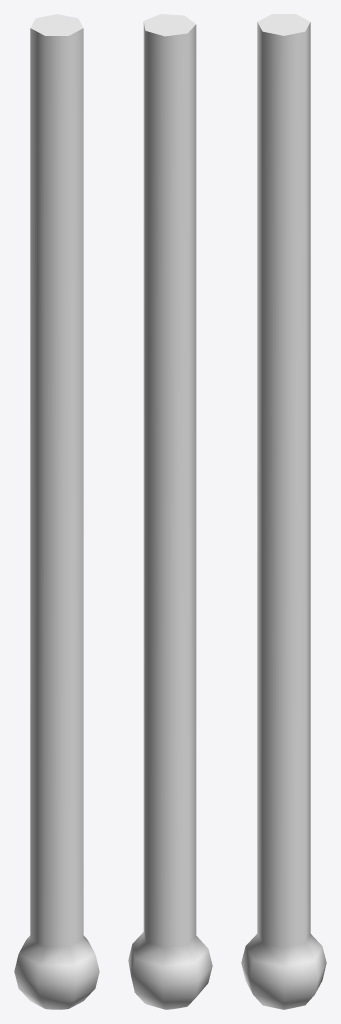
Rendered from LabDesk_Object_GlassRodStirrer.fbx.
3 views of the same model, side by side, from view 1: azimuth 90°, elevation 25°; view 2: azimuth 210°, elevation 25°; view 3: azimuth 270°, elevation 25° (orthographic).
Visible parts, largest first — view 1: Env_GlassRod; view 2: Env_GlassRod; view 3: Env_GlassRod.
Boxes of the visible parts, left/top/right/bottom form: Env_GlassRod: left=14, top=14, right=99, bottom=1009; Env_GlassRod: left=128, top=14, right=212, bottom=1009; Env_GlassRod: left=241, top=14, right=326, bottom=1009.
Bounding box in the file's own units: 0.1976 × 2.57 × 0.2027.
Materials: 1 (1 with a texture image).
